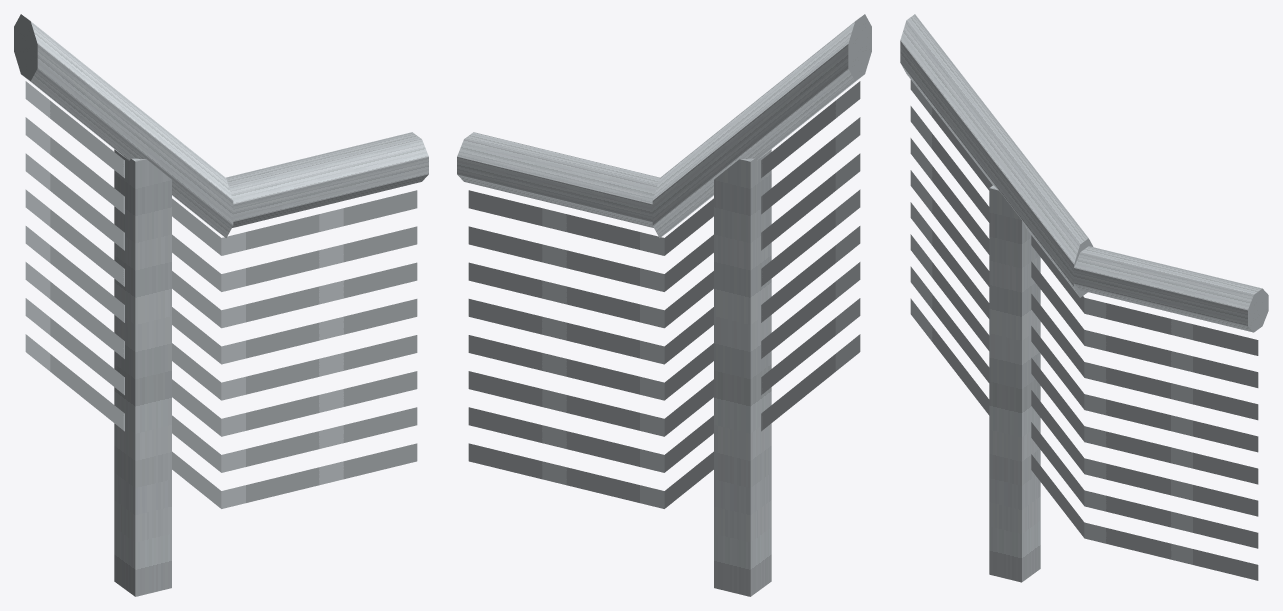
Rendered from foot_neg.obj.
3 renders of one model, left to right at view 1: azimuth 30°, elevation 25°; view 2: azimuth 150°, elevation 25°; view 3: azimuth 330°, elevation 25°, orthographic. The views are drawn at different scales.
Parts seen in each view (by area): view 1: railing_cable_stainless_foot_neg; view 2: railing_cable_stainless_foot_neg; view 3: railing_cable_stainless_foot_neg.
Boxes of the visible parts, x1,y1,x2,y2 form: railing_cable_stainless_foot_neg: [14, 14, 428, 596]; railing_cable_stainless_foot_neg: [457, 14, 871, 596]; railing_cable_stainless_foot_neg: [900, 14, 1268, 582].
Size of the model in its own units: 1 by 1.45 by 0.1039.
